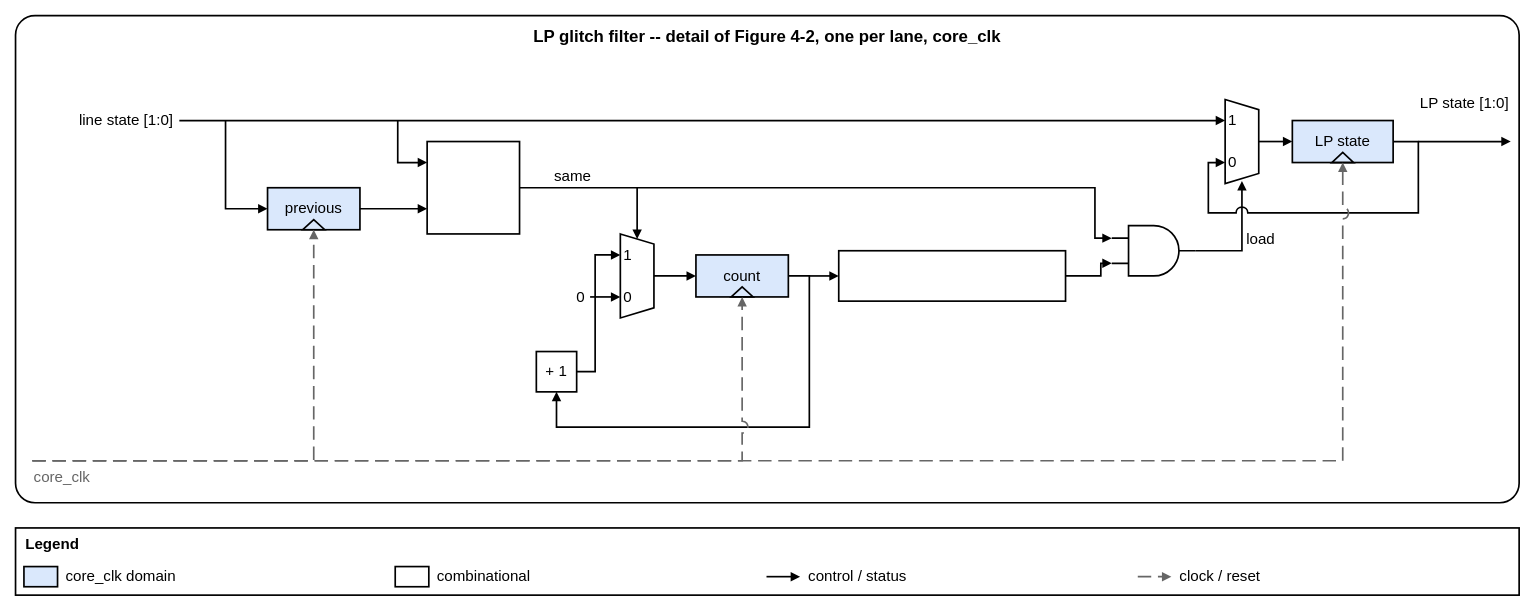
Some shapes in this 1534 by 610 pixel diagram are drawn without their labels. The shapes that lost their labels are listed below. From the top down, each one's centre as x and y in pixels, then its label:
At pixel 473 187: "equal".
At pixel 951 275: "= PARA_LP_FILTER_CYC - 1".
